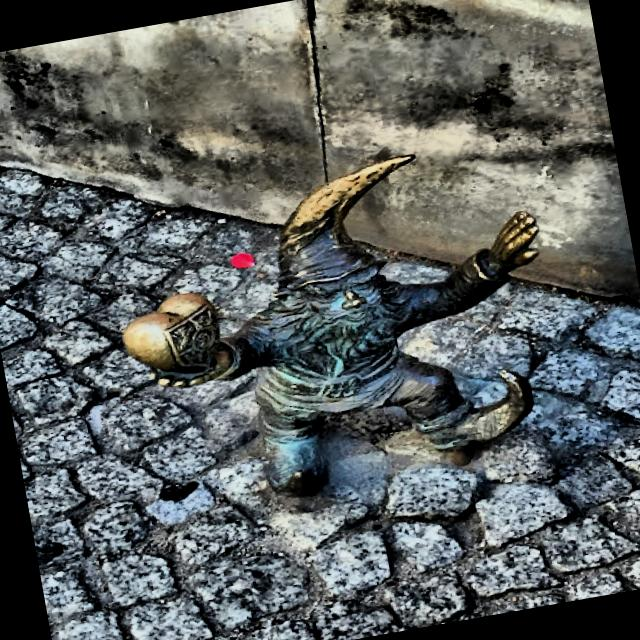WrocLovek: (112, 148, 546, 501)
